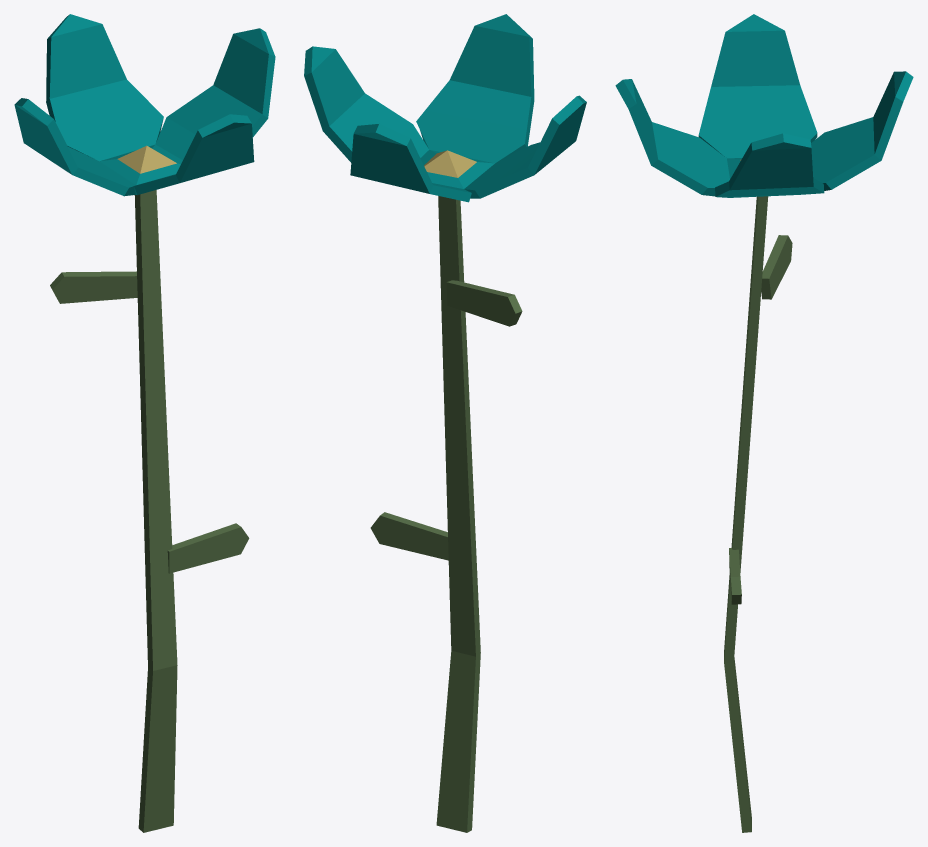
Rendered from FlowerCombined.glb.
The picture shows the model from 3 angles, left to right: view 1: azimuth 30°, elevation 25°; view 2: azimuth 150°, elevation 25°; view 3: azimuth 270°, elevation 25°; orthographic projection.
Visible parts, largest first — view 1: Flowers_Harvested; view 2: Flowers_Harvested; view 3: Flowers_Harvested.
Part boxes in pixels (x1=…): Flowers_Harvested: x1=14, y1=14, x2=275, y2=832; Flowers_Harvested: x1=304, y1=14, x2=586, y2=832; Flowers_Harvested: x1=615, y1=14, x2=913, y2=832.
Size of the model in its own units: 0.2918 by 0.8134 by 0.2926.
